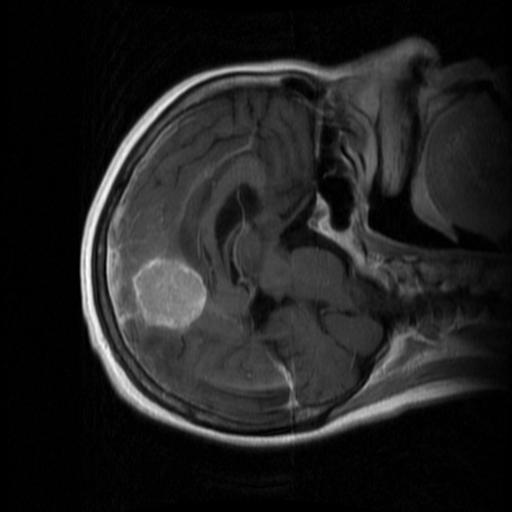meningioma: (130, 258, 208, 328)
